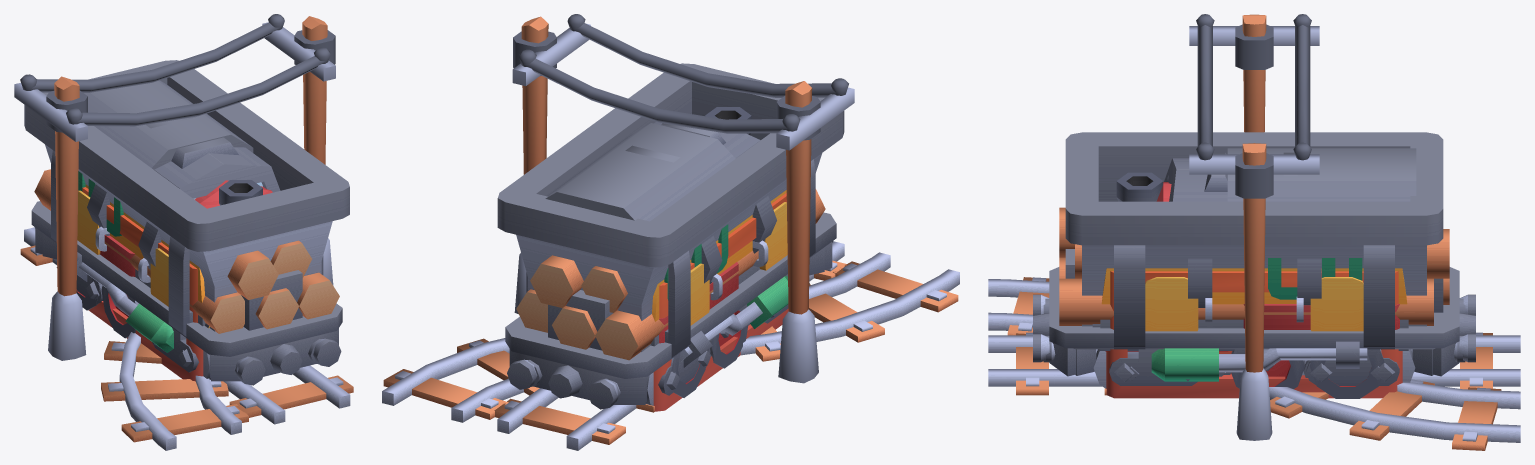
File: ferrocarril.glb
3 renders of one model, left to right at view 1: azimuth 30°, elevation 25°; view 2: azimuth 150°, elevation 25°; view 3: azimuth 270°, elevation 25°, orthographic. The views are drawn at different scales.
Visible parts, largest first — view 1: train-carriage-box, electricity-pole, train-locomotive-a, cargo, train-diesel-a, railroad-curve, railroad-straight, train-carriage-lumber, shipping-container-a, train-carriage-tank, wheels-front, wheel (+1 smaller); view 2: train-carriage-box, electricity-pole, train-locomotive-a, railroad-curve, cargo, train-diesel-a, railroad-straight, train-carriage-lumber, shipping-container-a, wheel (×2), train-carriage-tank, wheels-back; view 3: train-carriage-box, electricity-pole, train-locomotive-a, railroad-curve, train-diesel-a, train-carriage-lumber, railroad-straight, cargo, shipping-container-a, train-carriage-tank, wheel (×2), wheels-back (+1 smaller).
Part boxes in pixels (left/top/right/bottom): train-carriage-box: left=24, top=60, right=349, bottom=385; electricity-pole: left=14, top=14, right=335, bottom=360; train-locomotive-a: left=77, top=69, right=262, bottom=352; cargo: left=34, top=169, right=339, bottom=333; train-diesel-a: left=77, top=116, right=280, bottom=326; railroad-curve: left=101, top=332, right=248, bottom=450; railroad-straight: left=20, top=227, right=353, bottom=424; train-carriage-lumber: left=42, top=150, right=323, bottom=379; shipping-container-a: left=82, top=187, right=203, bottom=381; train-carriage-tank: left=87, top=180, right=272, bottom=269; wheels-front: left=152, top=328, right=210, bottom=379; wheel: left=101, top=285, right=138, bottom=338; train-carriage-box: left=497, top=63, right=844, bottom=409; electricity-pole: left=512, top=14, right=854, bottom=383; train-locomotive-a: left=545, top=107, right=788, bottom=367; railroad-curve: left=382, top=252, right=959, bottom=422; cargo: left=516, top=189, right=825, bottom=360; train-diesel-a: left=625, top=122, right=787, bottom=346; railroad-straight: left=494, top=241, right=846, bottom=450; train-carriage-lumber: left=526, top=159, right=824, bottom=402; shipping-container-a: left=653, top=193, right=788, bottom=411; wheel (×2): left=670, top=304, right=748, bottom=397; train-carriage-tank: left=701, top=195, right=776, bottom=283; wheels-back: left=645, top=348, right=711, bottom=405; train-carriage-box: left=1033, top=132, right=1475, bottom=376; electricity-pole: left=1189, top=14, right=1319, bottom=440; train-locomotive-a: left=1092, top=148, right=1416, bottom=381; railroad-curve: left=988, top=277, right=1520, bottom=450; train-diesel-a: left=1096, top=152, right=1412, bottom=352; train-carriage-lumber: left=1043, top=245, right=1465, bottom=375; railroad-straight: left=988, top=332, right=1520, bottom=395; cargo: left=1059, top=207, right=1449, bottom=325; shipping-container-a: left=1106, top=271, right=1402, bottom=398; train-carriage-tank: left=1156, top=182, right=1321, bottom=307; wheel (×2): left=1231, top=349, right=1384, bottom=398; wheels-back: left=1302, top=349, right=1415, bottom=385.
Size of the model in its own units: 7.46 by 6 by 10.
9 materials, 3 textured.
